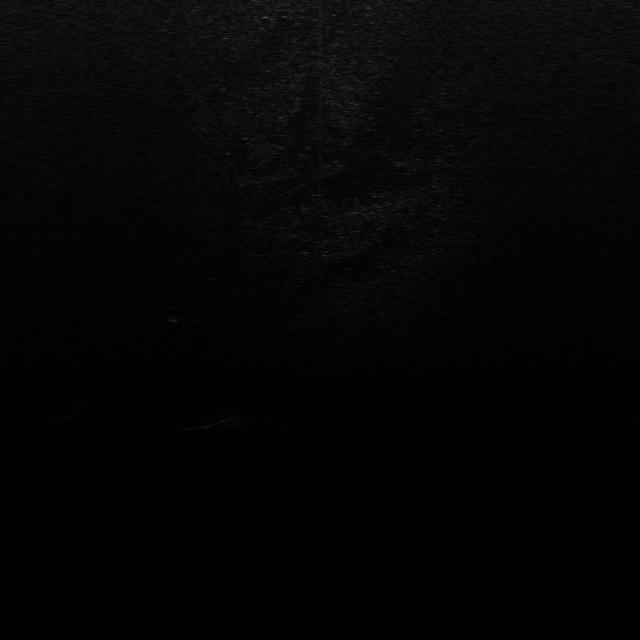ball: (212, 408, 248, 431)
circle cage: (160, 303, 190, 324)
tyre: (46, 399, 90, 425)
